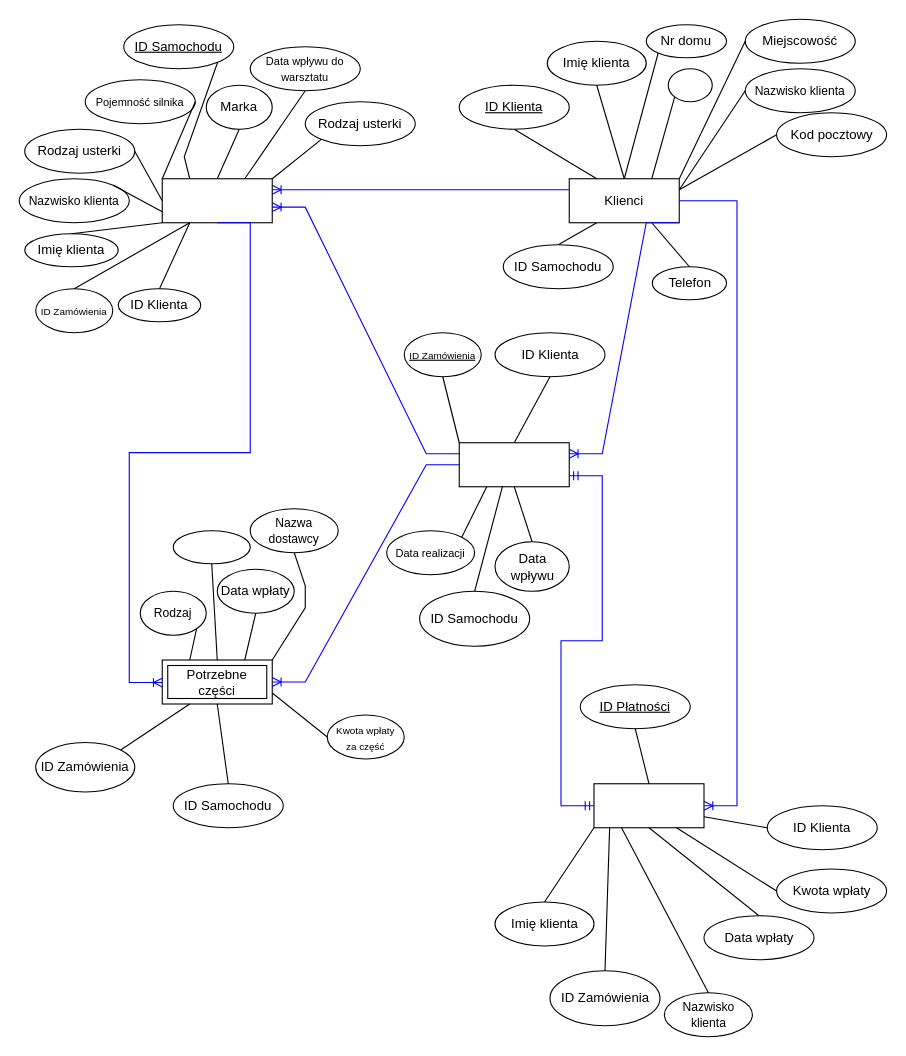
Some shapes in this 906 by 1056 pixel diagram are drawn without their labels. Each missing label, with the box of its shape:
Nazwa: (172, 530, 250, 564)
Płatności: (593, 783, 704, 828)
Samochody: (161, 178, 272, 223)
Ulica: (667, 68, 712, 102)
Zamówienia: (458, 442, 569, 487)
